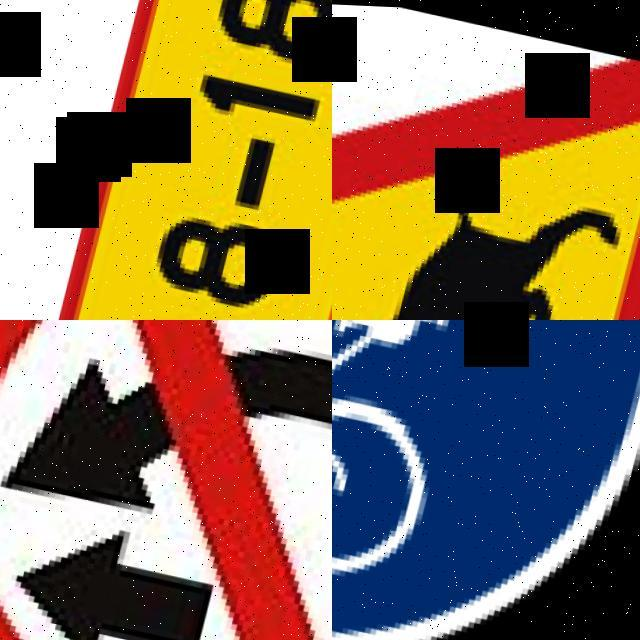136: (332, 0, 640, 320)
181: (5, 0, 332, 320)
Cycle track: (332, 320, 640, 640)
No passing: (0, 320, 332, 640)
